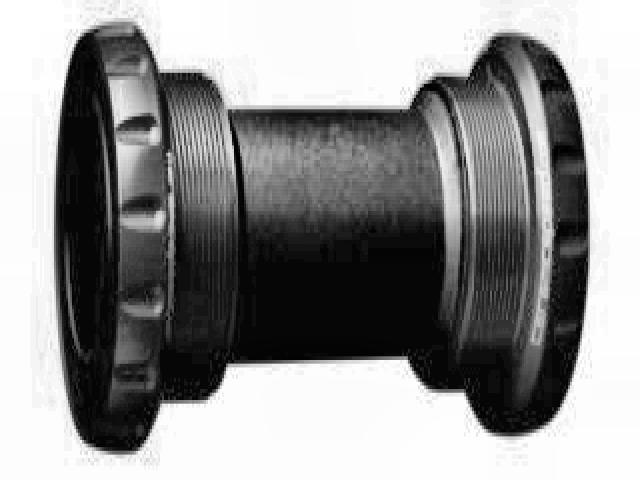bottom_bracket: (50, 15, 592, 458)
